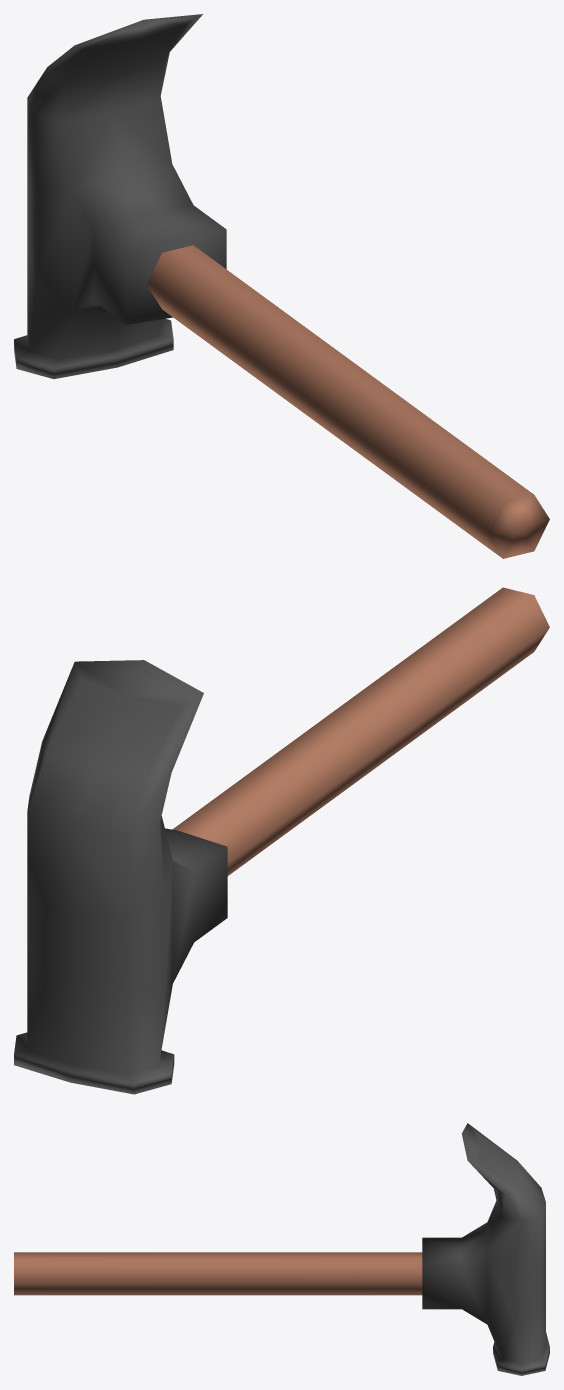
The model's file is hammar.fbx.
3 views of the same model, one above another, from view 1: azimuth 30°, elevation 25°; view 2: azimuth 150°, elevation 25°; view 3: azimuth 270°, elevation 25° (orthographic). The views are drawn at different scales.
Visible parts, largest first — view 1: hammar; view 2: hammar; view 3: hammar.
Part boxes in pixels (x1,y1,x2,y2): hammar: [14, 14, 549, 558]; hammar: [14, 587, 549, 1094]; hammar: [14, 1123, 549, 1375].
Size of the model in its own units: 1.53 by 3.48 by 7.69.
Materials: 1 (1 with a texture image).
